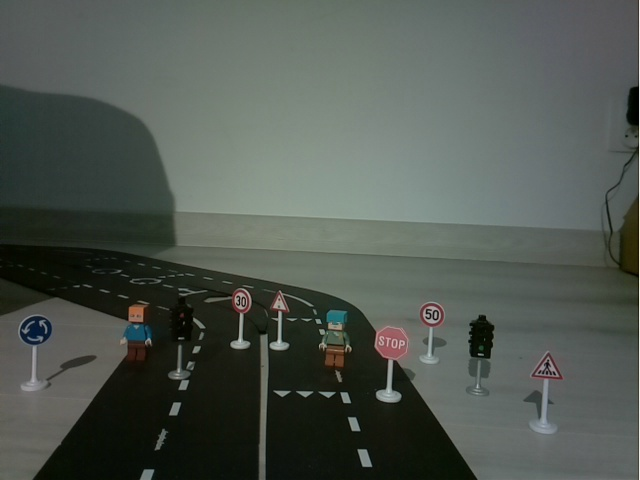green light: (461, 313, 498, 400)
limit 30: (225, 286, 256, 354)
limit 50: (415, 302, 445, 366)
pedestrian sign: (524, 345, 566, 438)
person: (116, 300, 155, 368), (316, 306, 355, 374)
red light: (165, 297, 195, 383)
round: (14, 312, 56, 398)
stop: (367, 323, 409, 406)
traffic light sign: (266, 289, 294, 355)
